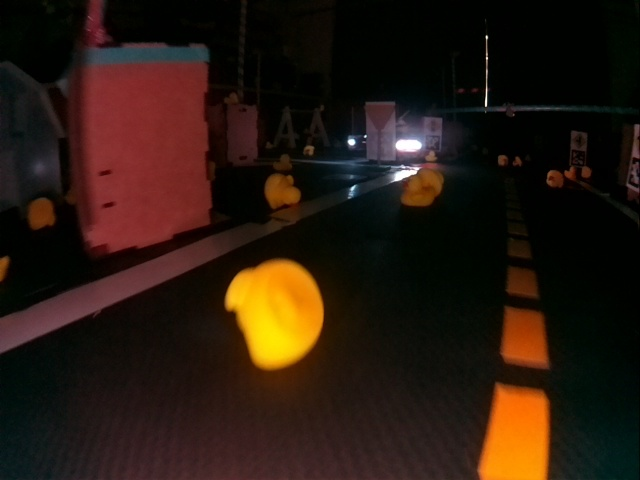Duckie: (227, 262, 316, 360), (264, 174, 302, 207), (400, 176, 434, 207), (27, 197, 51, 229), (421, 170, 444, 194), (546, 172, 560, 185), (498, 156, 507, 166), (514, 156, 523, 166), (581, 166, 591, 174), (305, 146, 313, 155), (427, 151, 437, 158), (566, 167, 574, 175)
